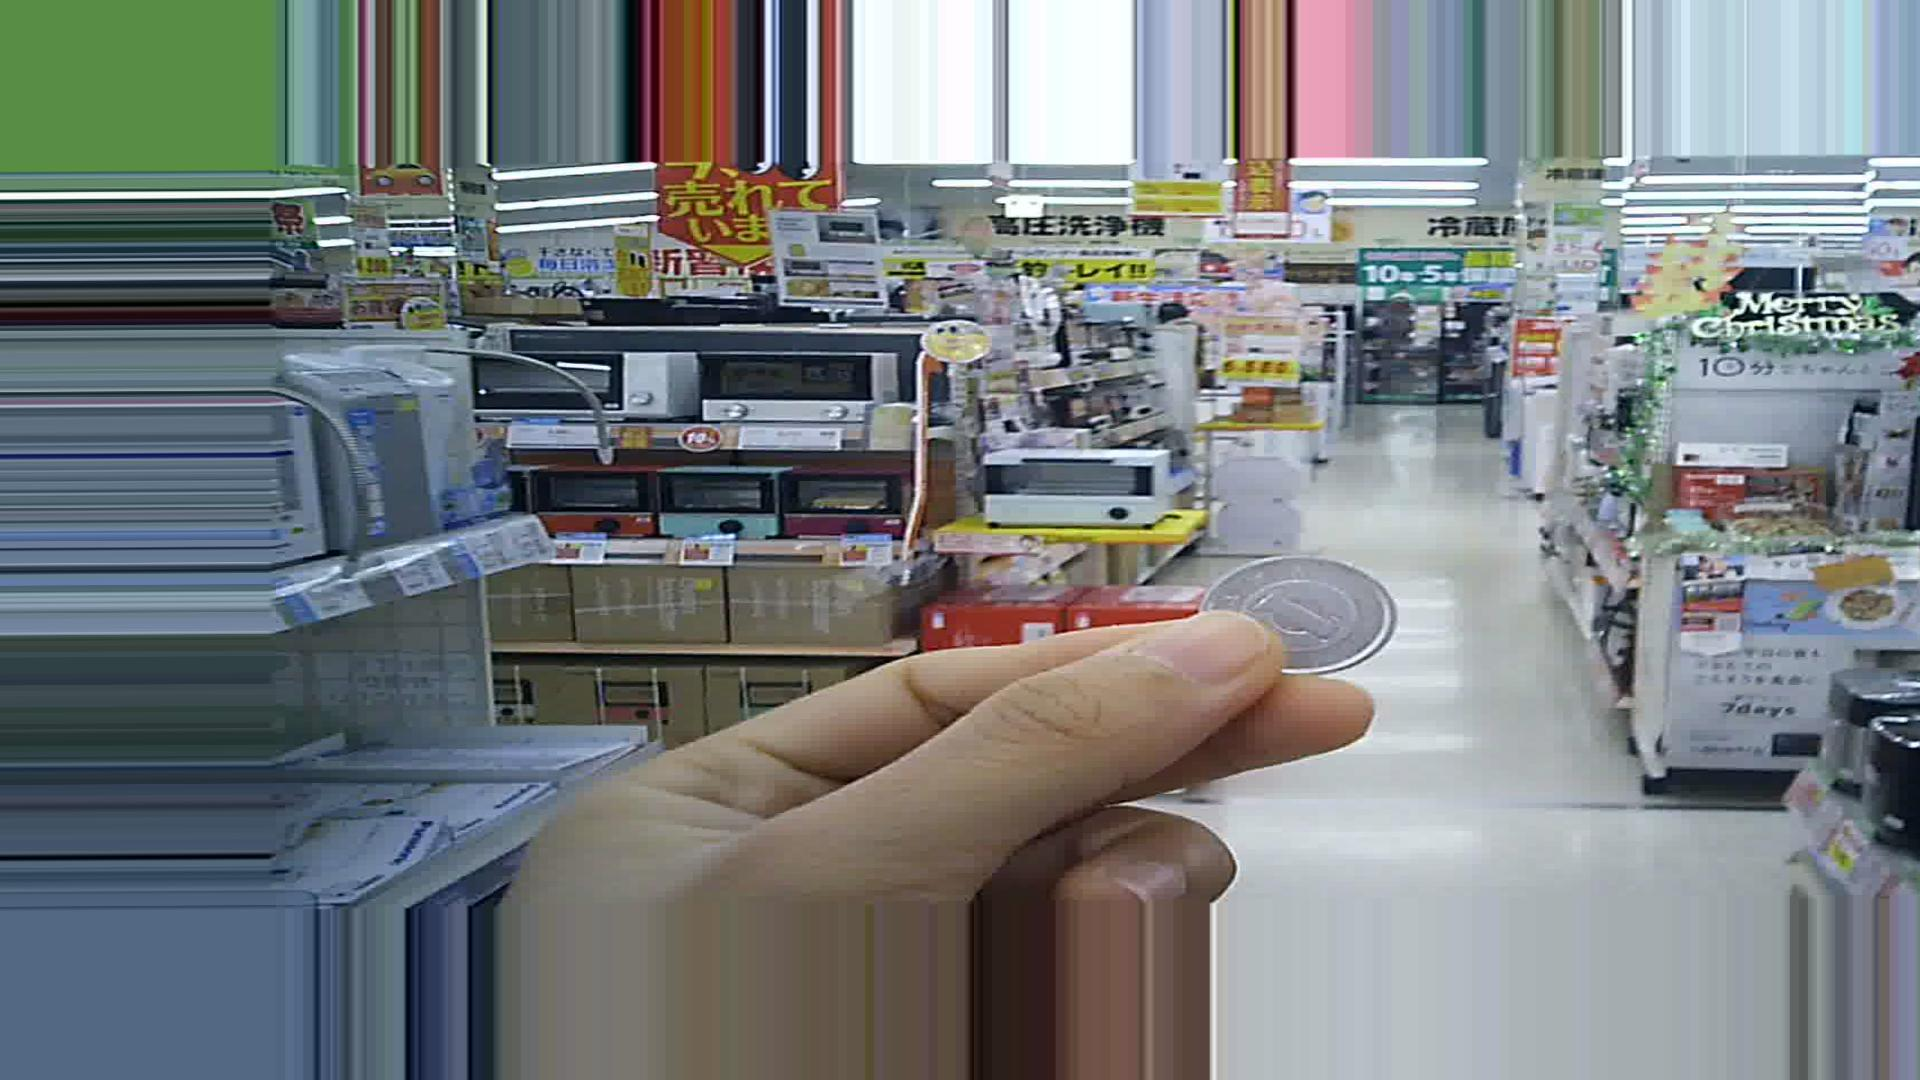1 Yen: (1199, 551, 1399, 702)
